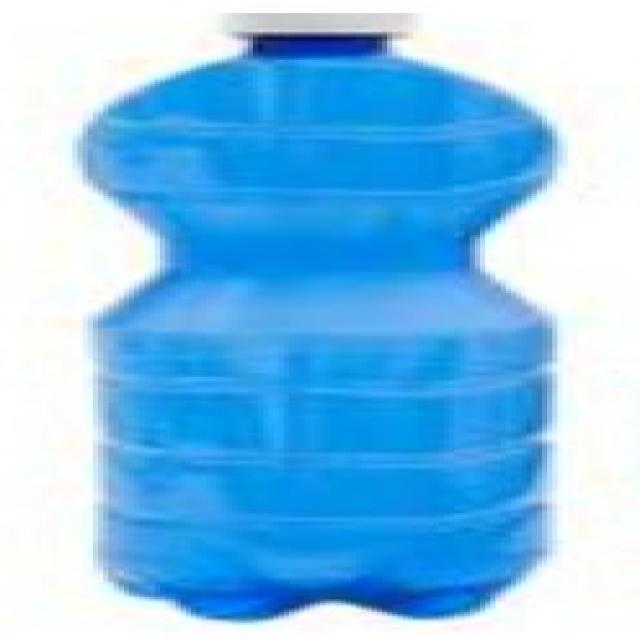general: (72, 11, 563, 622)
